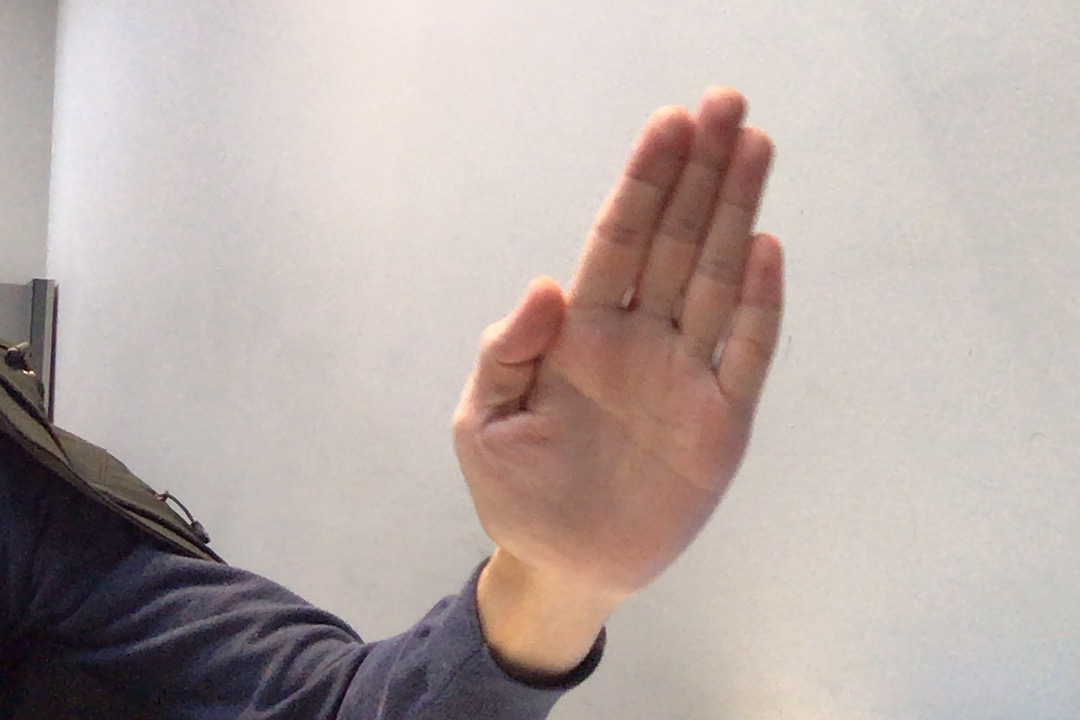palmhand: (426, 67, 821, 610)
